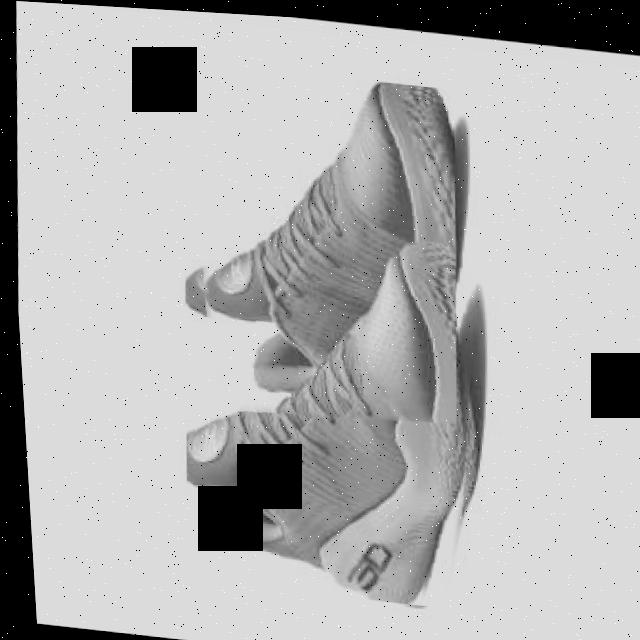shoe: (164, 220, 491, 608), (167, 57, 470, 432)
